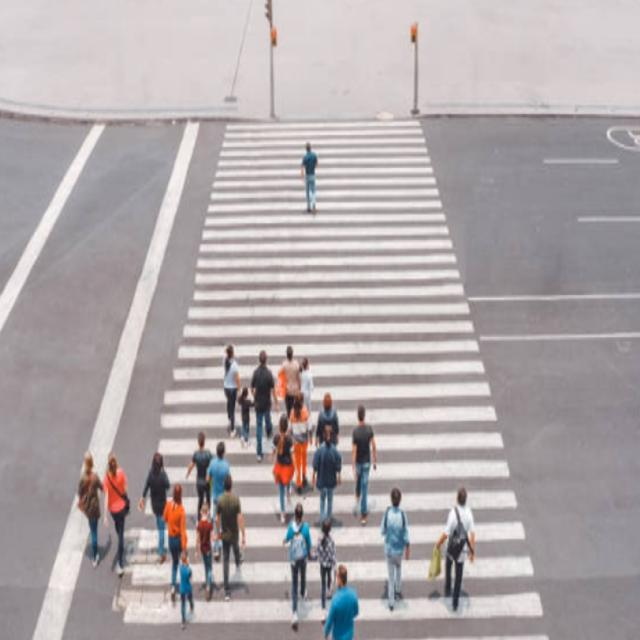humans: (428, 482, 478, 617), (212, 467, 255, 616), (378, 482, 418, 620), (102, 448, 137, 585), (137, 434, 171, 574), (280, 500, 316, 632), (73, 435, 105, 577), (137, 433, 170, 570), (162, 464, 192, 604), (311, 420, 348, 530), (184, 424, 220, 534), (204, 433, 232, 570), (313, 506, 342, 632), (194, 498, 226, 612), (250, 344, 280, 465), (351, 399, 378, 531), (285, 385, 316, 499), (269, 410, 298, 526), (323, 564, 365, 640), (296, 130, 325, 219), (173, 545, 200, 639), (218, 335, 240, 438), (316, 388, 347, 452), (277, 331, 302, 407), (237, 386, 257, 455), (298, 346, 316, 419)
